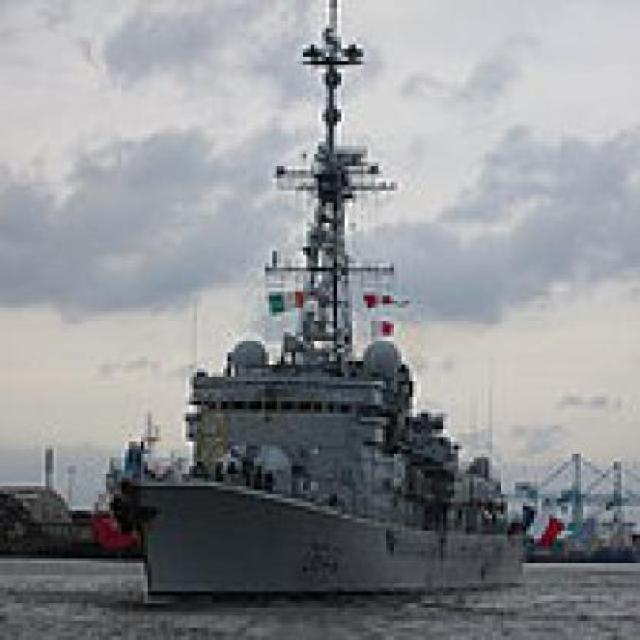warship2: (115, 1, 559, 626)
